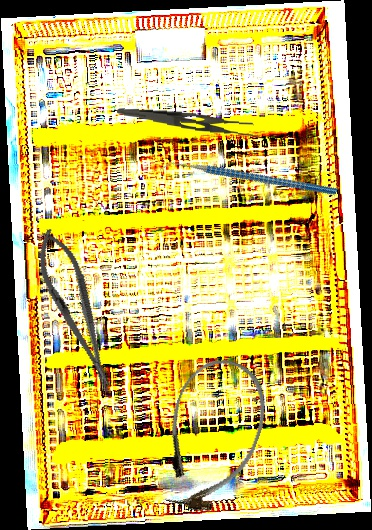Cannula: (145, 348, 280, 523)
Chopper: (158, 108, 339, 253)
Dressing Forceps: (115, 106, 262, 141)
Needle Holder: (25, 222, 125, 395)
